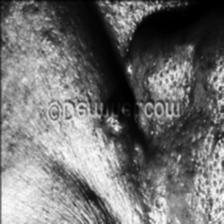Unclassified: (146, 131, 224, 224), (109, 57, 145, 86), (105, 122, 132, 138)
